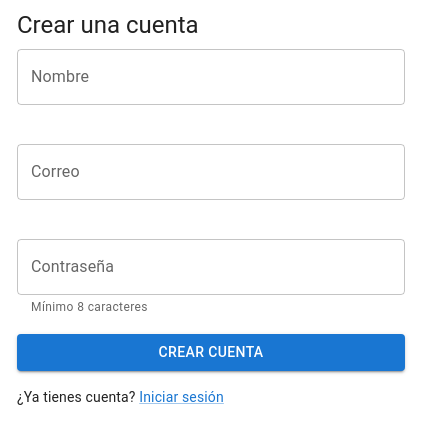
Test: SignUpPage › da un enlace para iniciar sesión después de verificar
In the field labelled "Nombre": (211, 77) top-left (17, 49), bottom-right (405, 105), type "Persona Registrada"
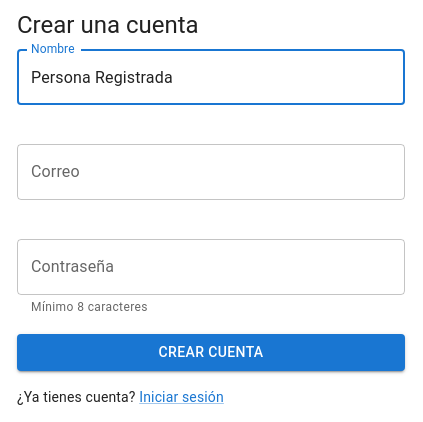
In the field labelled "Correo": (211, 172) top-left (17, 144), bottom-right (405, 200), type "nueva@ejemplo.com"
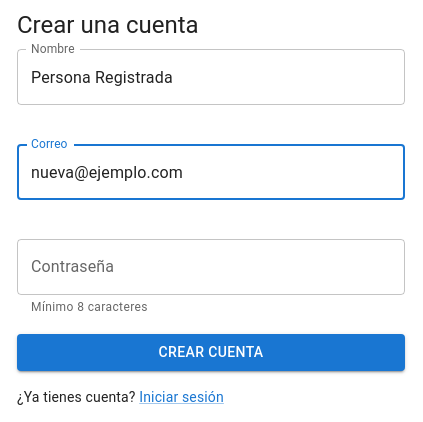
In the password field labelled "Contraseña": (211, 267) top-left (17, 239), bottom-right (405, 295), type "BrumaCafe2026!"
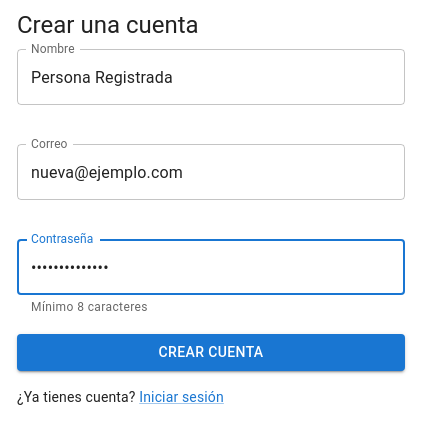
Click the button "Crear cuenta": (211, 352) top-left (17, 334), bottom-right (405, 371)
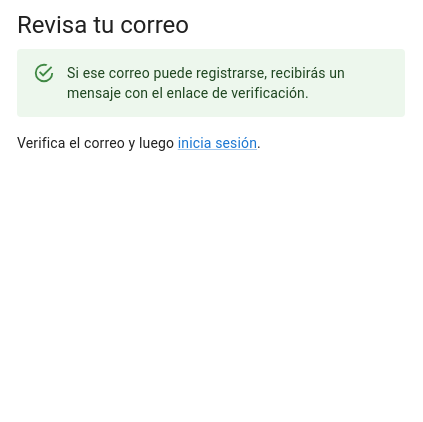
Check: the link "inicia sesión" is shown, box top-left (178, 135), bottom-right (257, 151)
